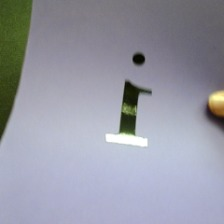violet1: (99, 48, 161, 148)
